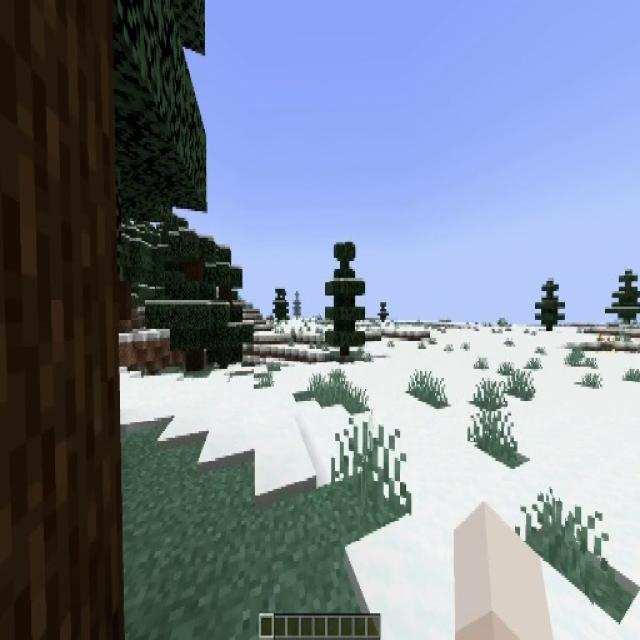spruce: (147, 232, 228, 374), (325, 240, 365, 356), (605, 267, 640, 325), (535, 278, 564, 332)
spruce_log: (0, 0, 128, 640), (185, 350, 204, 372)
